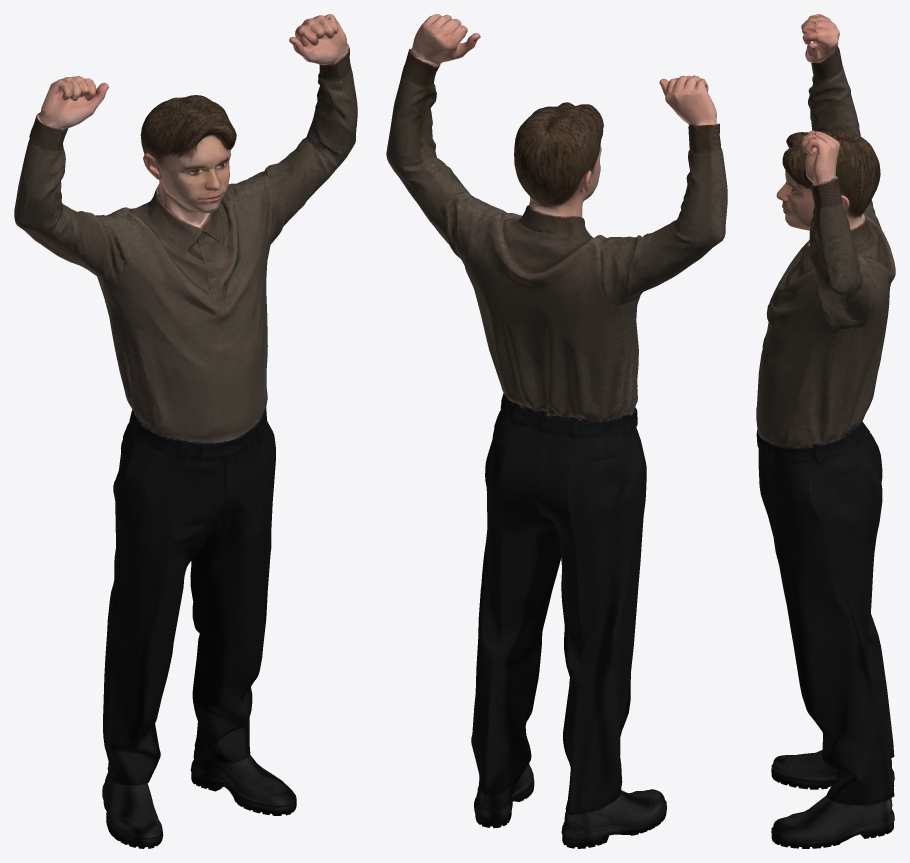
Rendered from tommy.glb.
3 views of the same model, side by side, from view 1: azimuth 30°, elevation 25°; view 2: azimuth 150°, elevation 25°; view 3: azimuth 270°, elevation 25° (orthographic). The views are drawn at different scales.
Visible parts, largest first — view 1: model; view 2: model; view 3: model.
Boxes of the visible parts, bbox=[...] form: model: bbox=[14, 14, 357, 848]; model: bbox=[386, 14, 727, 848]; model: bbox=[756, 14, 895, 848].
Size of the model in its own units: 0.4504 by 0.9786 by 0.1689.
1 material, 1 textured.
